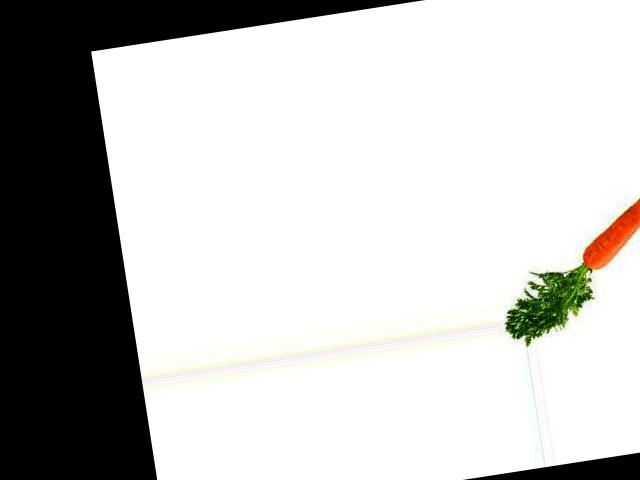carrot: (567, 155, 640, 274)
